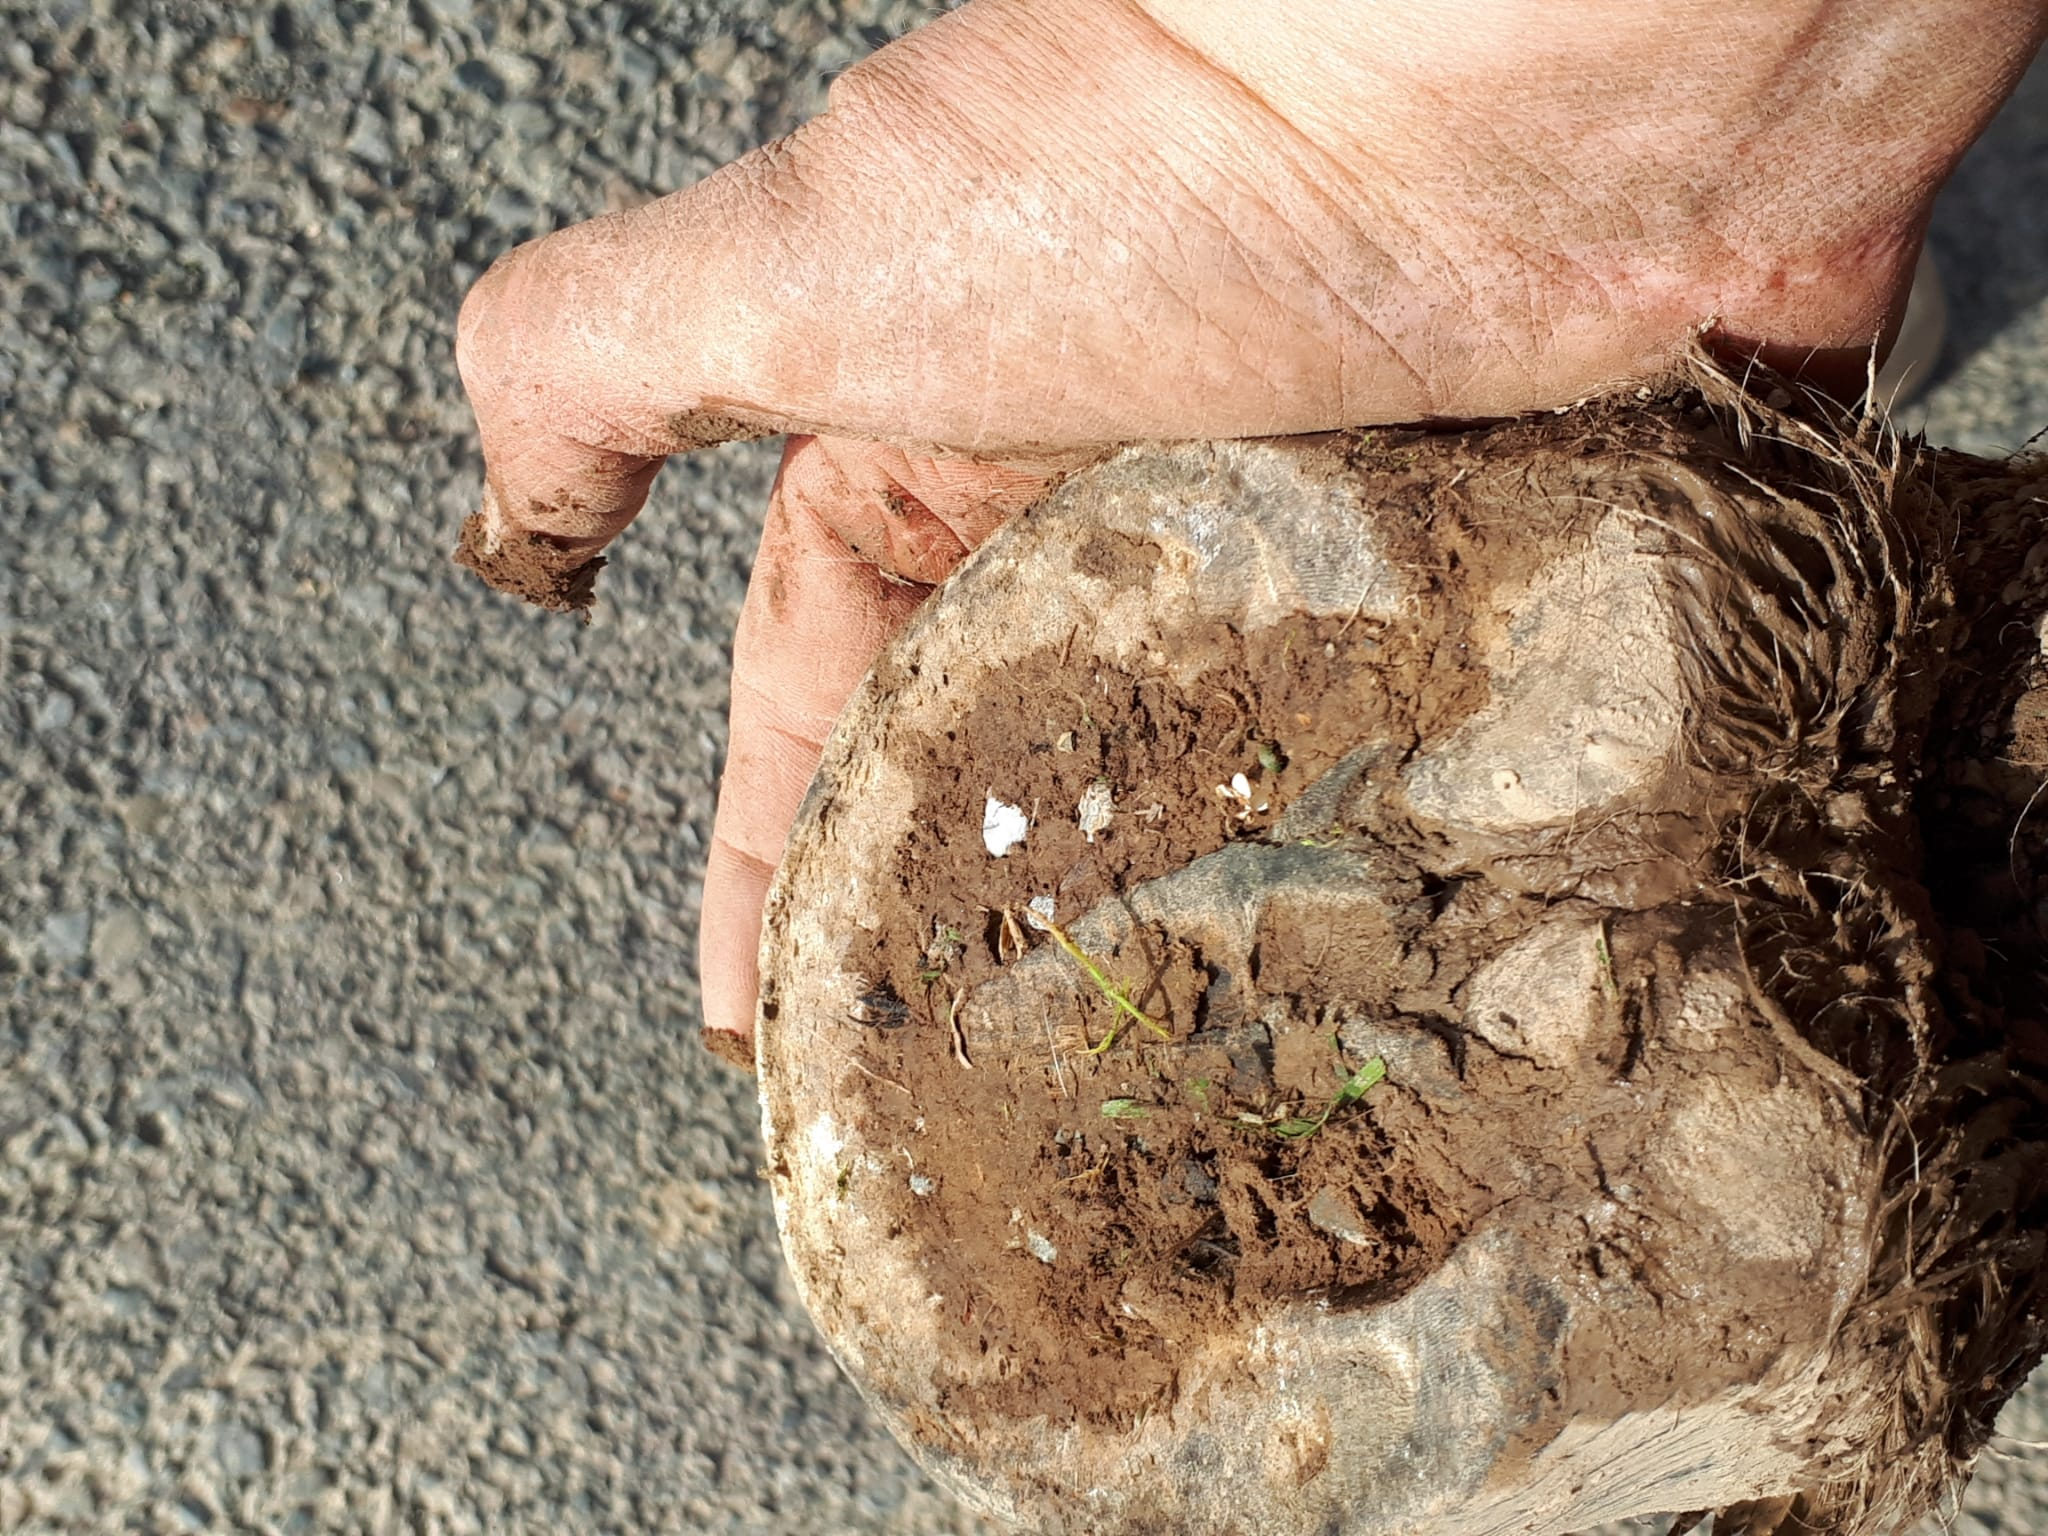horsesole: (756, 436, 1584, 1536)
